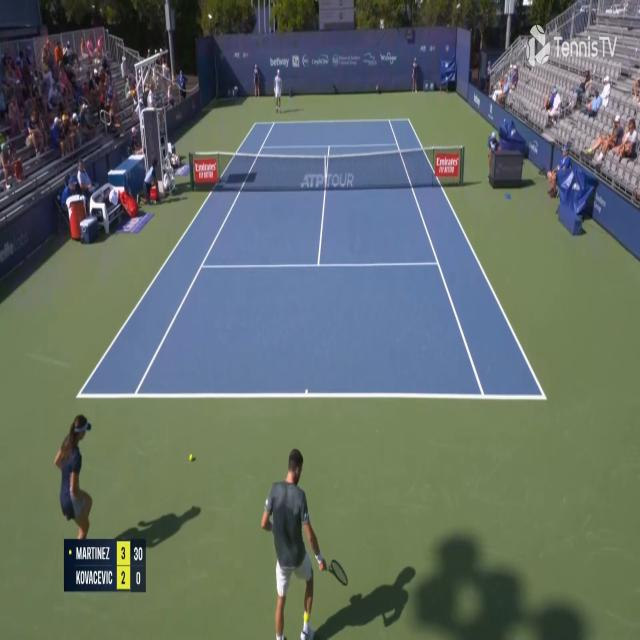tennis-player: (261, 441, 348, 636), (274, 69, 284, 114)
